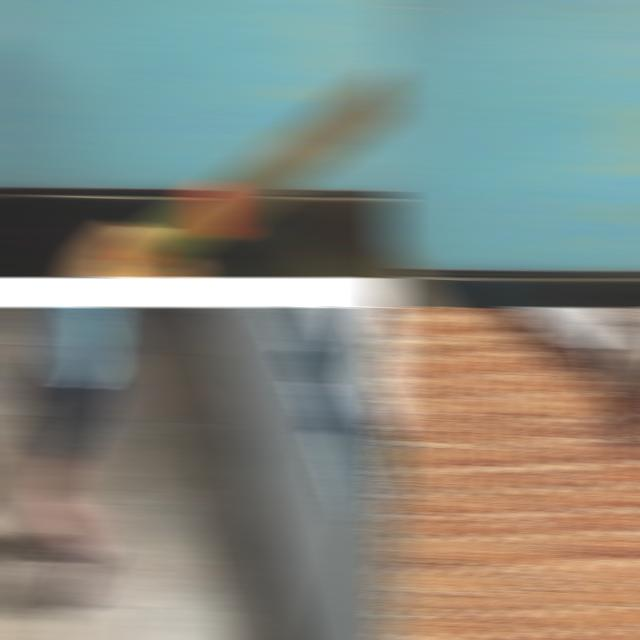Knife: (116, 68, 400, 277), (380, 240, 450, 308)
Knife_Handle: (380, 41, 496, 308)
